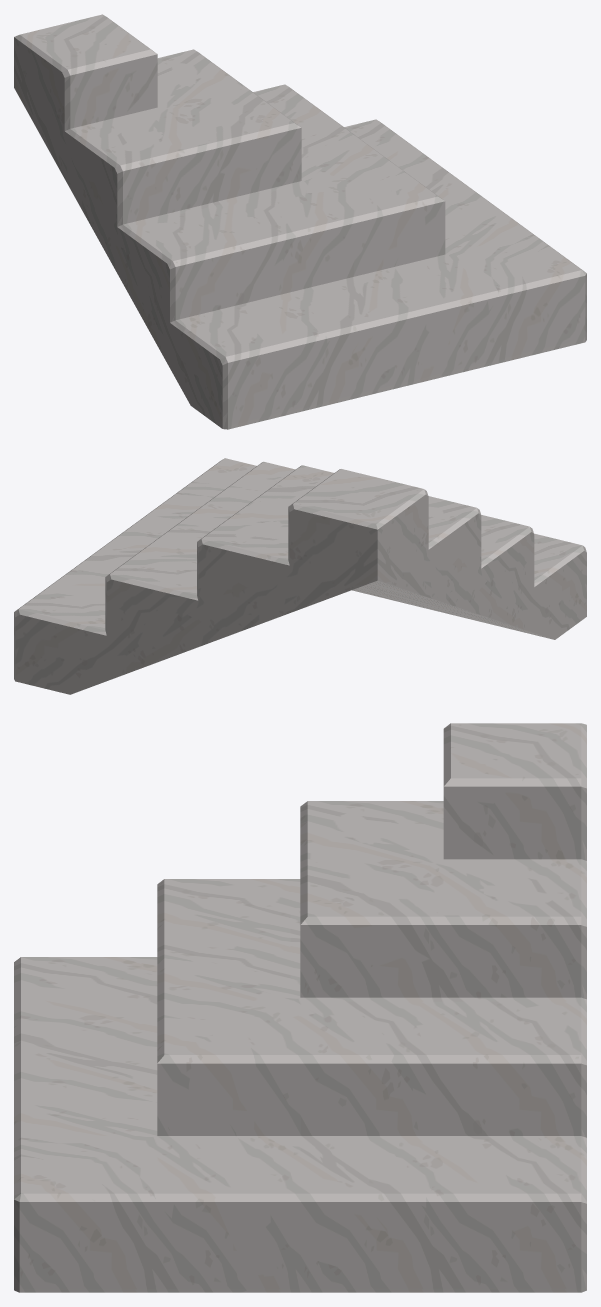
Rendered from SM_Bld_Step_01_Corner_01.fbx.
3 views of the same model, one above another, from view 1: azimuth 30°, elevation 25°; view 2: azimuth 150°, elevation 25°; view 3: azimuth 270°, elevation 25° (orthographic). The views are drawn at different scales.
Visible parts, largest first — view 1: SM_Bld_Step_01_Corner_01; view 2: SM_Bld_Step_01_Corner_01; view 3: SM_Bld_Step_01_Corner_01.
Part boxes in pixels (x1,y1,x2,y2): SM_Bld_Step_01_Corner_01: (14,14,586,429); SM_Bld_Step_01_Corner_01: (14,458,586,694); SM_Bld_Step_01_Corner_01: (14,723,586,1292).
Bounding box in the file's own units: 250 × 159 × 250.
